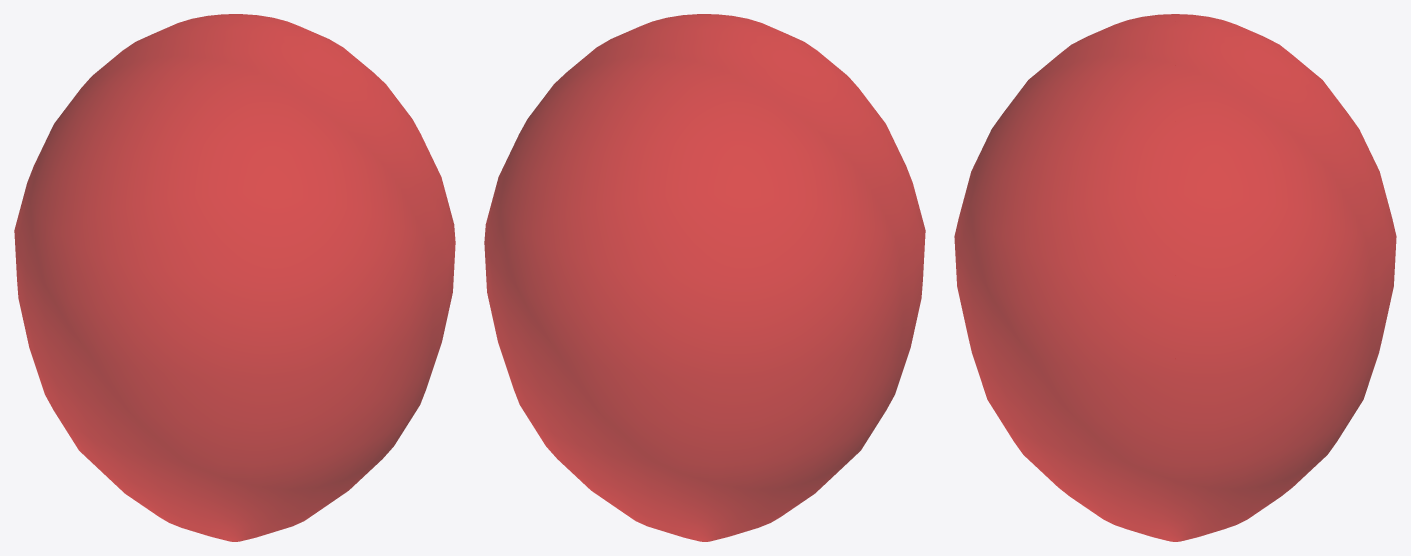
File: balloon.glb
3 renders of one model, left to right at view 1: azimuth 30°, elevation 25°; view 2: azimuth 150°, elevation 25°; view 3: azimuth 270°, elevation 25°, orthographic.
Parts seen in each view (by area): view 1: balloon; view 2: balloon; view 3: balloon.
Boxes of the visible parts, left/top/right/bottom form: balloon: left=14, top=14, right=455, bottom=541; balloon: left=484, top=14, right=925, bottom=541; balloon: left=954, top=14, right=1396, bottom=541.
Bounding box in the file's own units: 1.57 × 2 × 1.57.
